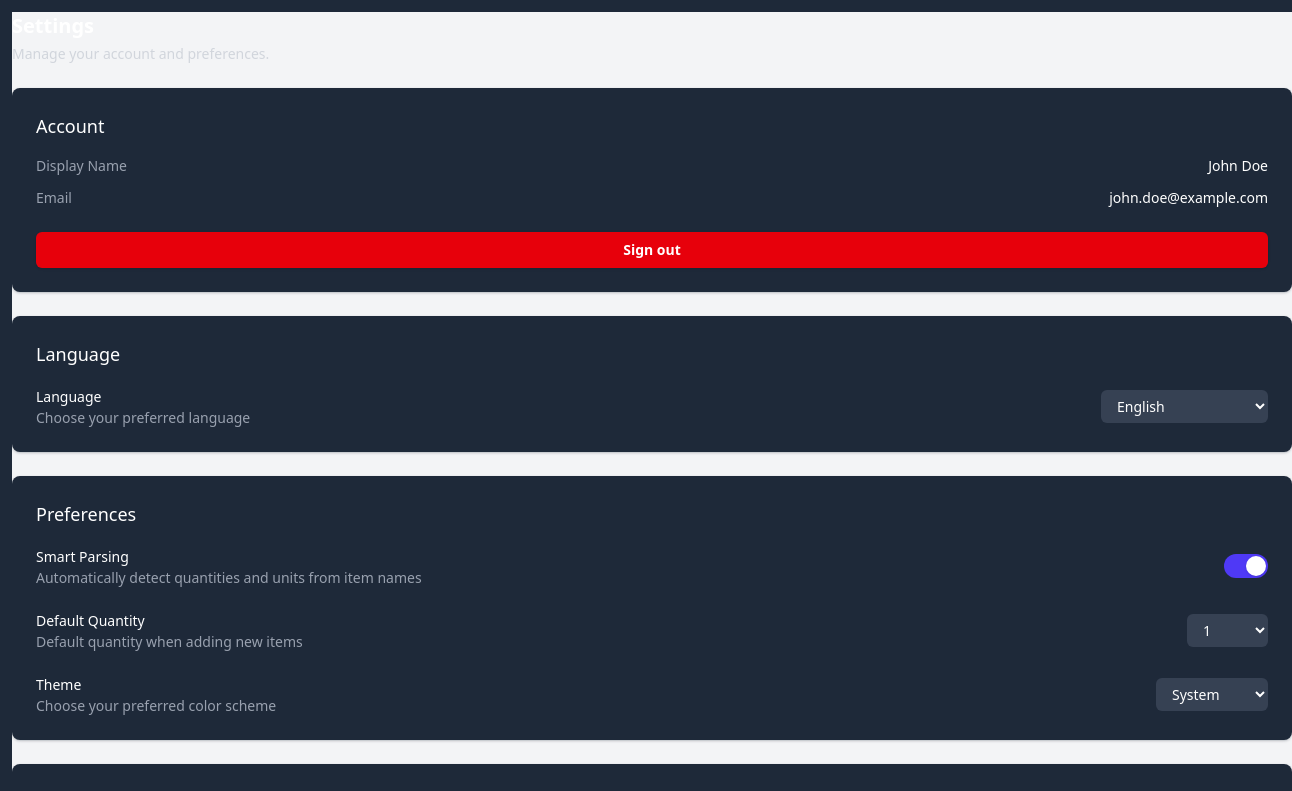
SettingsPage › shows success message after saving preference
Select "Dark" in the dropdown with test id "theme-select": (1212, 694) [1156, 678, 1268, 710]
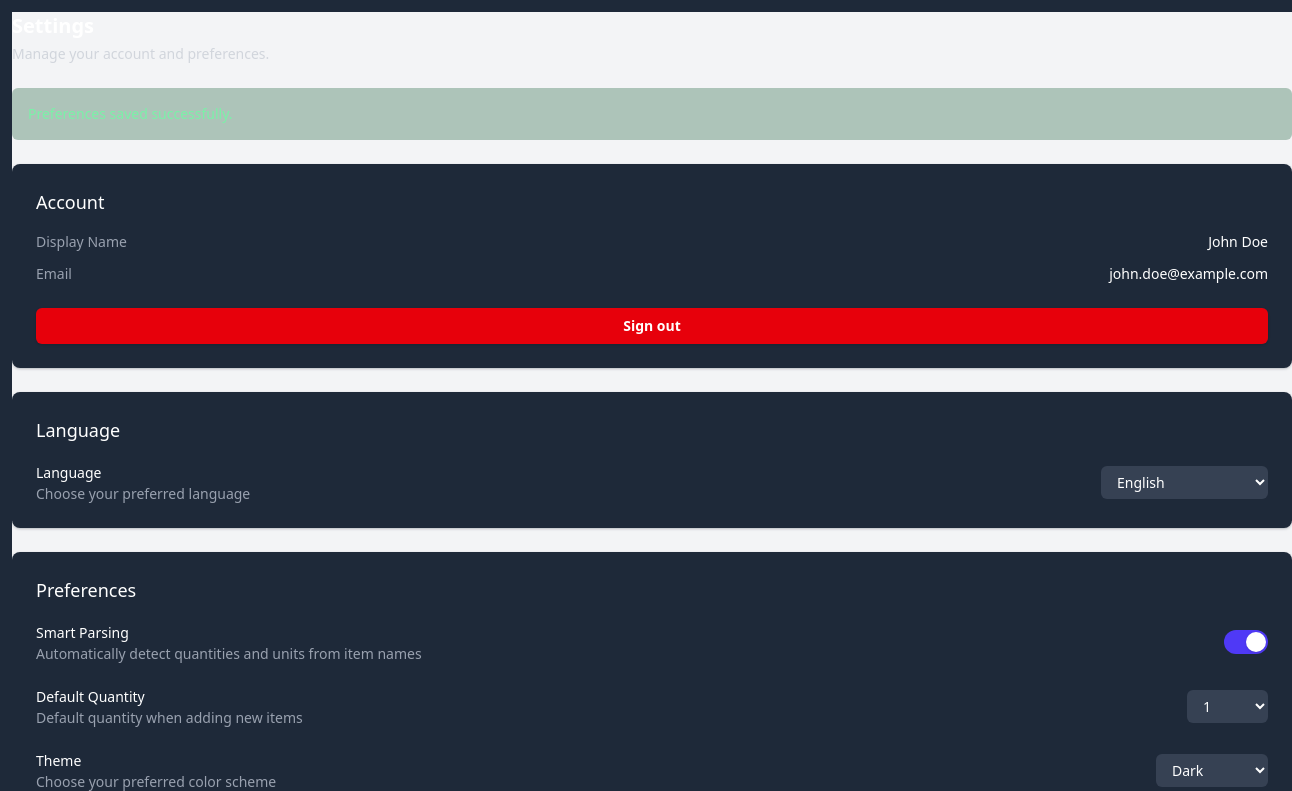
expect the text "Preferences saved successfully." is shown: met, box [12, 88, 1291, 140]
